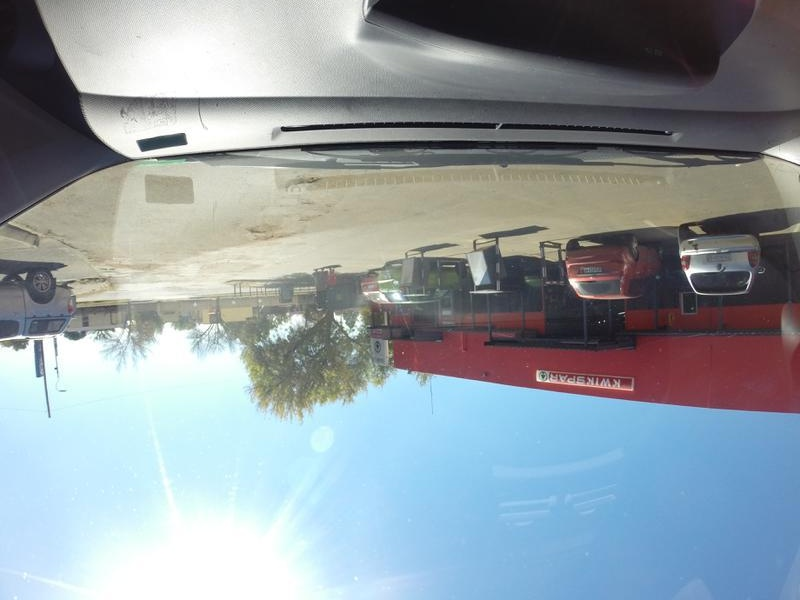pothole: (273, 175, 322, 186), (109, 261, 156, 272), (252, 231, 291, 238), (290, 212, 321, 220), (245, 226, 274, 234), (293, 199, 313, 204)
